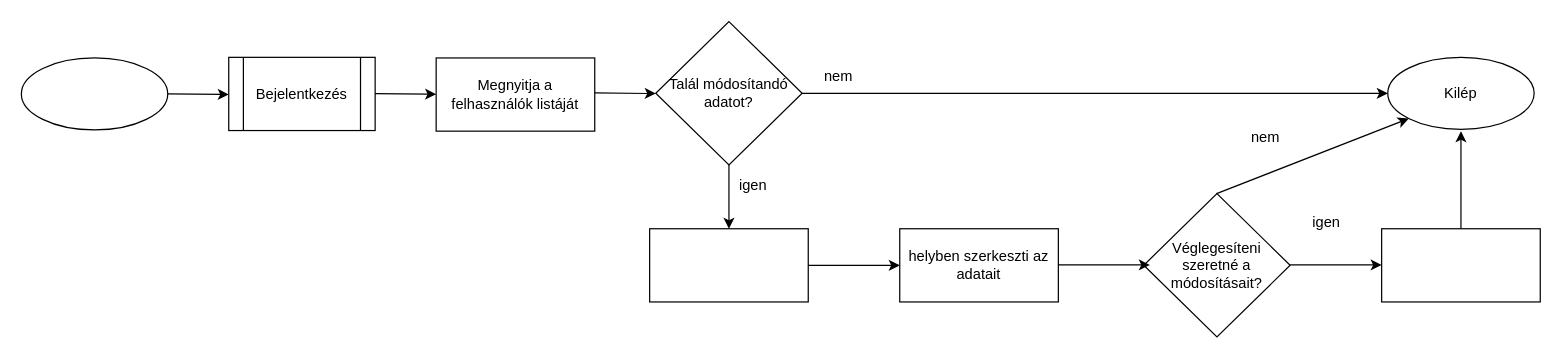
The diagram is 1562 pixels wide and 359 high, and some of its shapes have lost their labels. Each missing label, with the centre of its shape:
"A mentésre nyom" goes at [1460,265].
"A moderátor ellenőrizné a felhasználókat" goes at [94,93].
"Megnyitja a felhasználó profilját" goes at [728,265].
